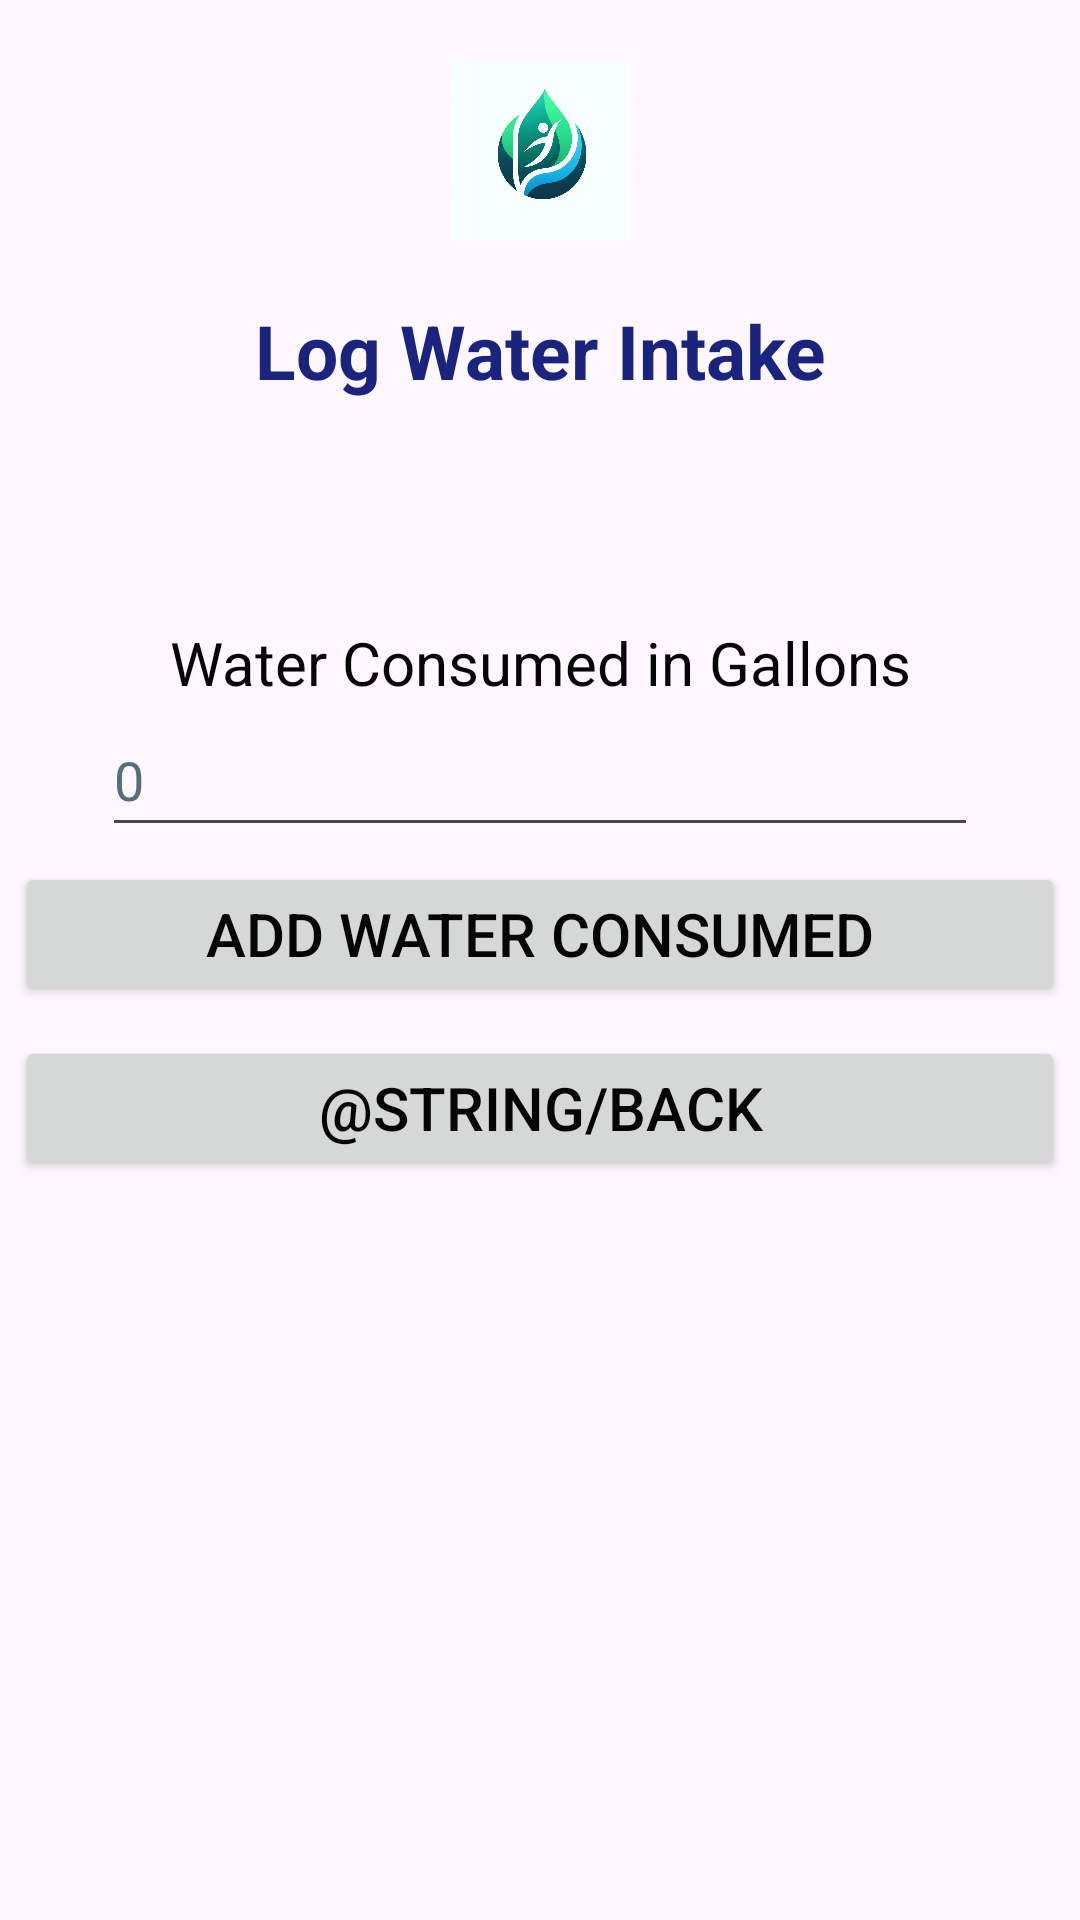

Icons on this 1080 × 1920 Android screen, each with the point to tap as (x=x, y=y):
app icon: (x=542, y=144)
